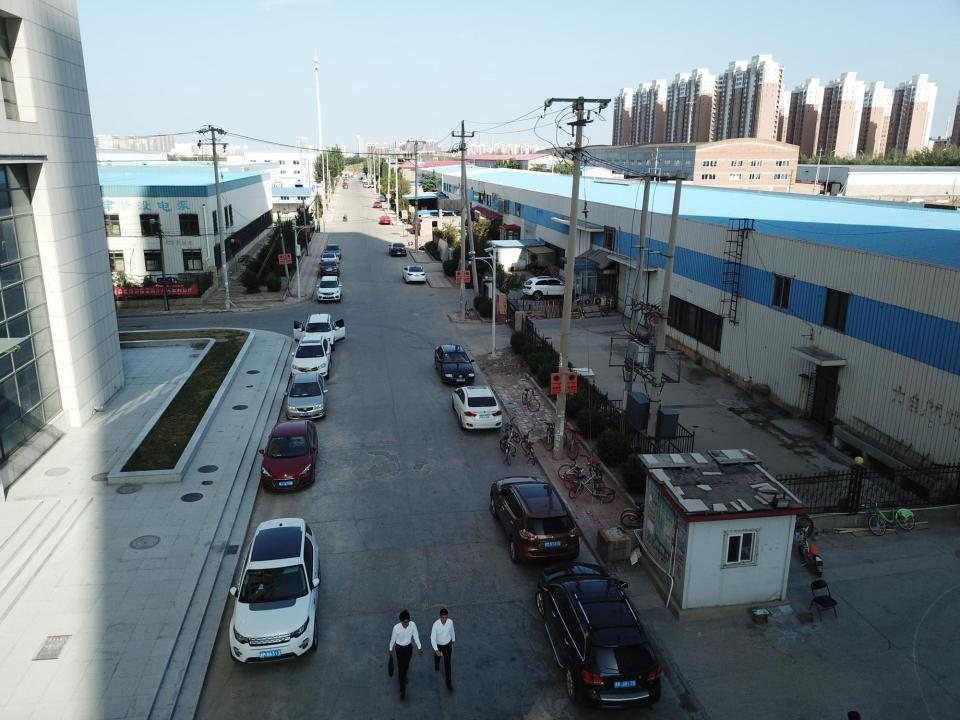car: (535, 562, 661, 711), (229, 517, 321, 664), (491, 476, 580, 566), (258, 419, 318, 492), (452, 386, 503, 430), (283, 372, 327, 421), (293, 310, 345, 351), (290, 334, 332, 379), (434, 341, 476, 385), (522, 276, 580, 300), (316, 275, 342, 302), (403, 265, 426, 283), (318, 259, 340, 276), (389, 242, 407, 256), (321, 252, 339, 265), (324, 245, 342, 256), (379, 216, 391, 225), (364, 184, 374, 188), (363, 178, 371, 183), (379, 196, 385, 202), (374, 202, 381, 207), (343, 184, 348, 188), (344, 179, 348, 184)
